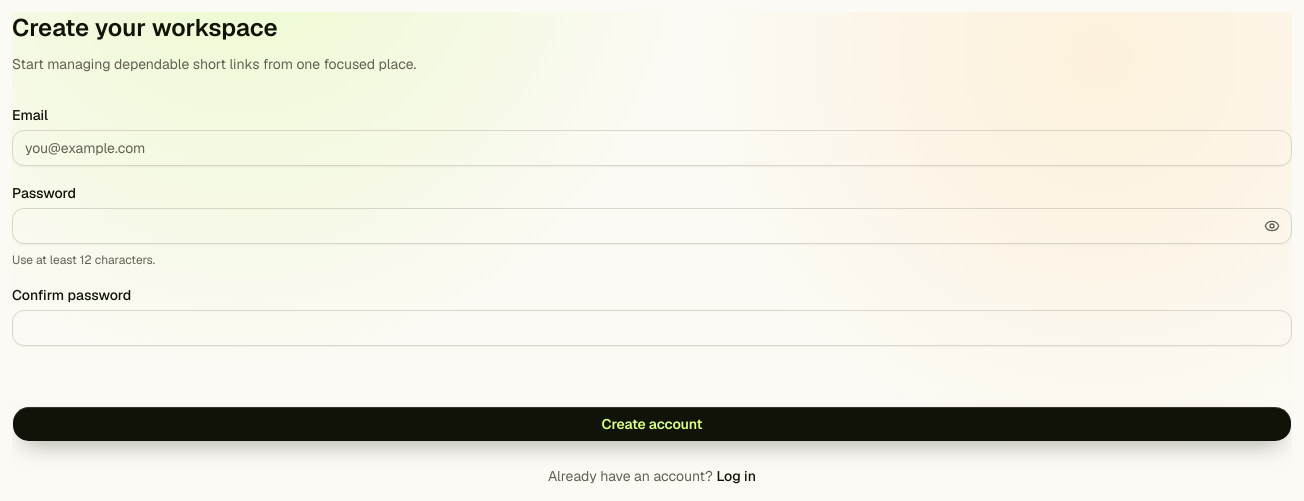
AuthForm › rejects mismatched registration passwords locally
Type "user@example.com" into the field labelled "Email" at coordinates (652, 148), box [12,130,1292,166]
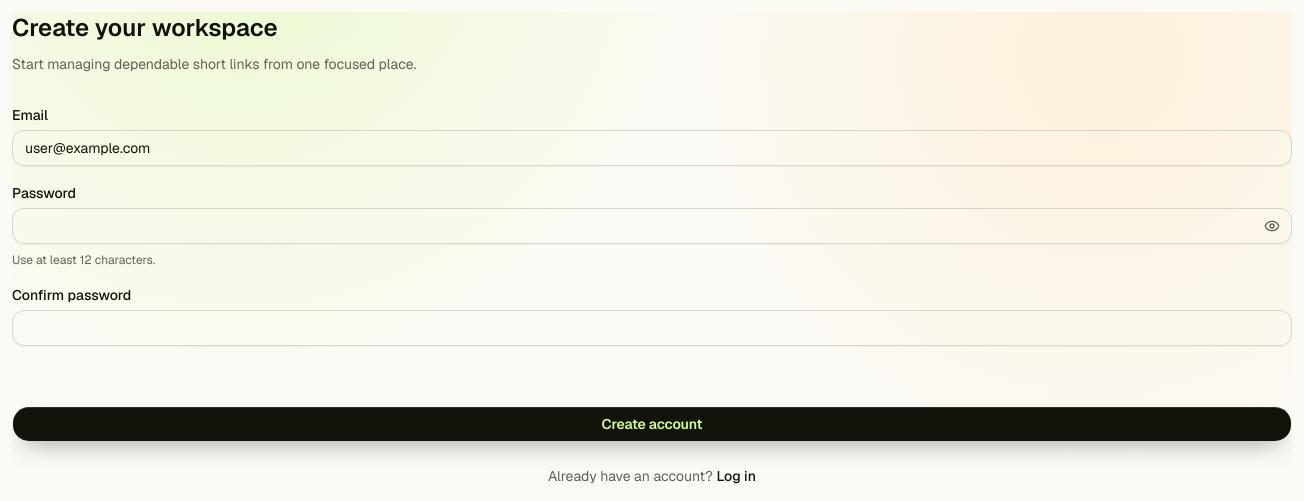
Type "correct horse battery staple" into the password field labelled "Password" at coordinates (652, 226), box [12,208,1292,244]
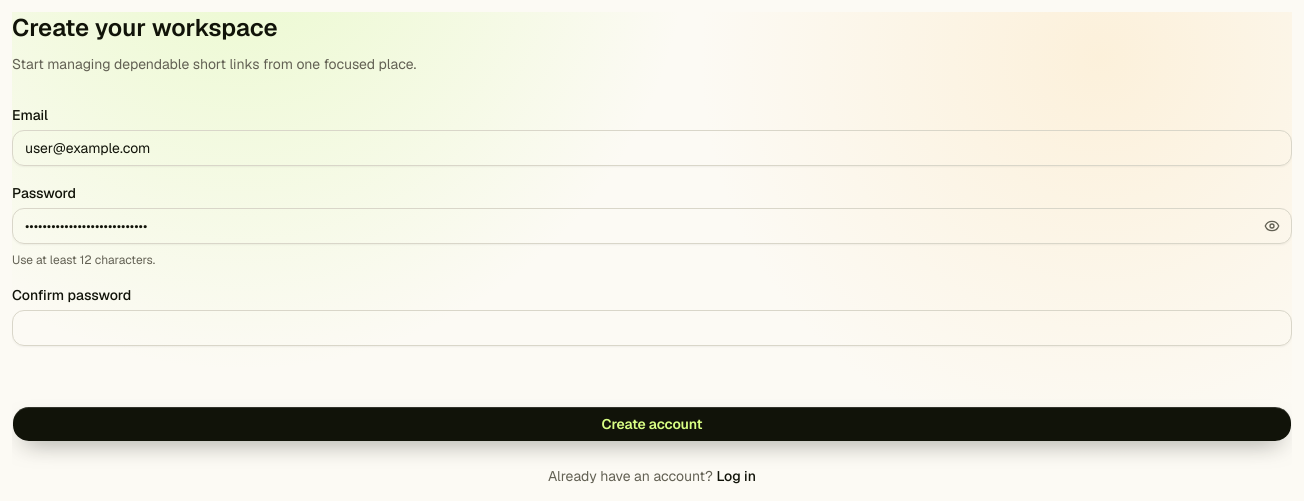
Type "a different secure password" into the password field labelled "Confirm password" at coordinates (652, 328), box [12,310,1292,346]
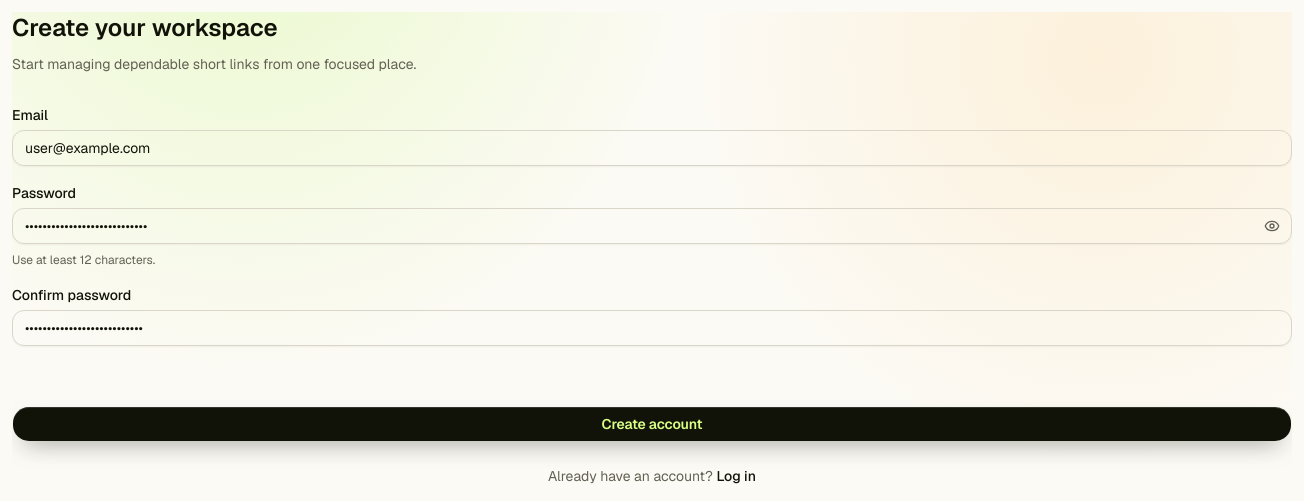
Submit the form "Create account"
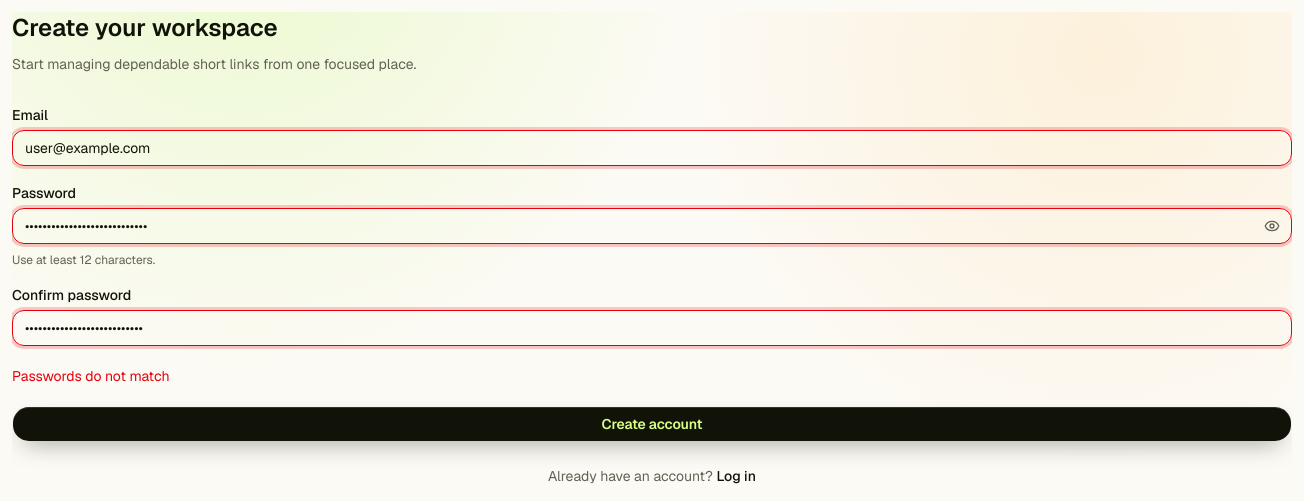
Result: the message reads "Passwords do not match" at [12,367,170,385]
